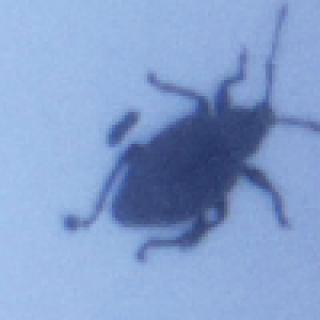bvw: (64, 0, 320, 263)
